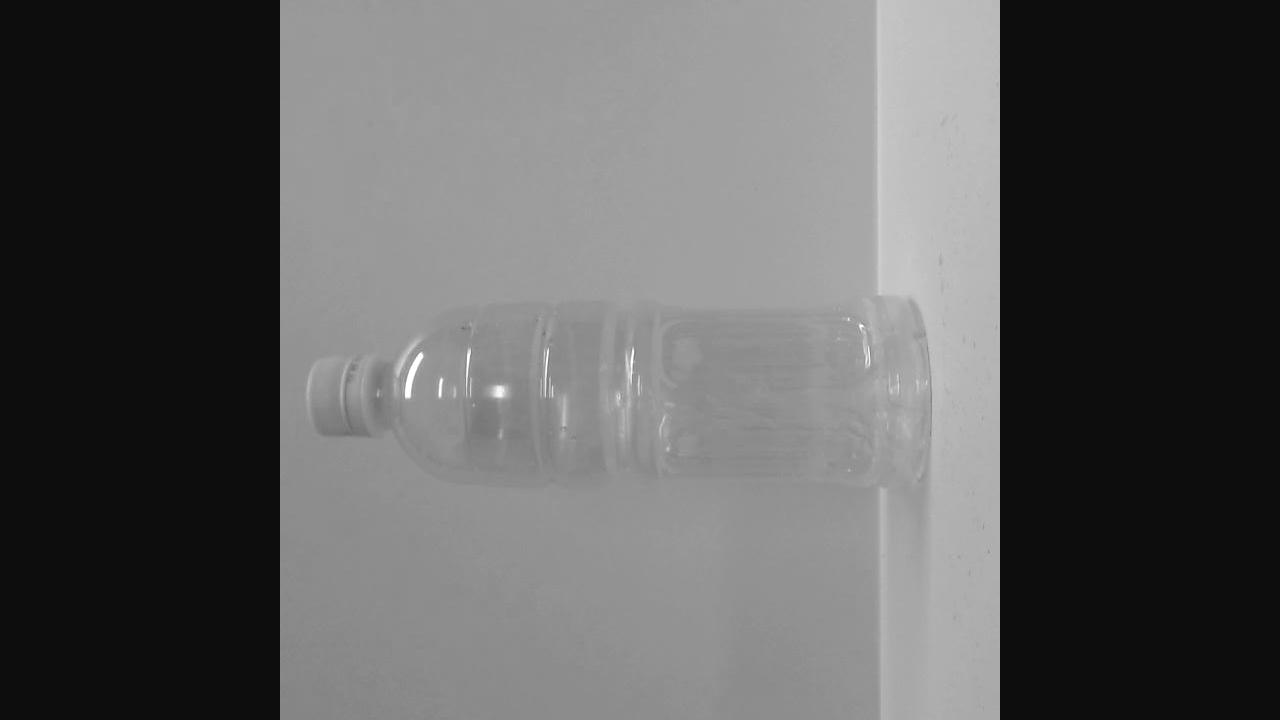bottle: (306, 290, 954, 501)
